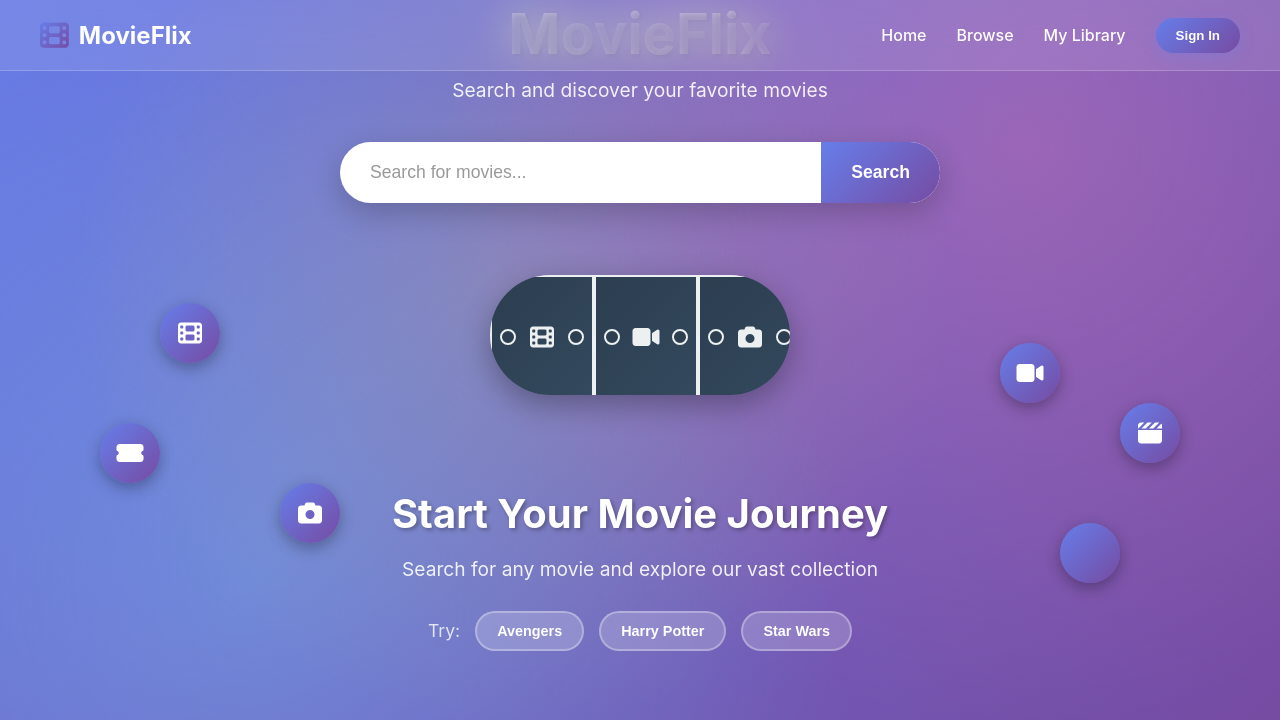
Test: Home Page › example search chips › populates the input when Harry Potter chip is clicked
This screenshot has width=1280, height=720.
(page scrolled)
Click the button "Harry Potter". click: {"x": 663, "y": 631}
box: [599,611,726,651]
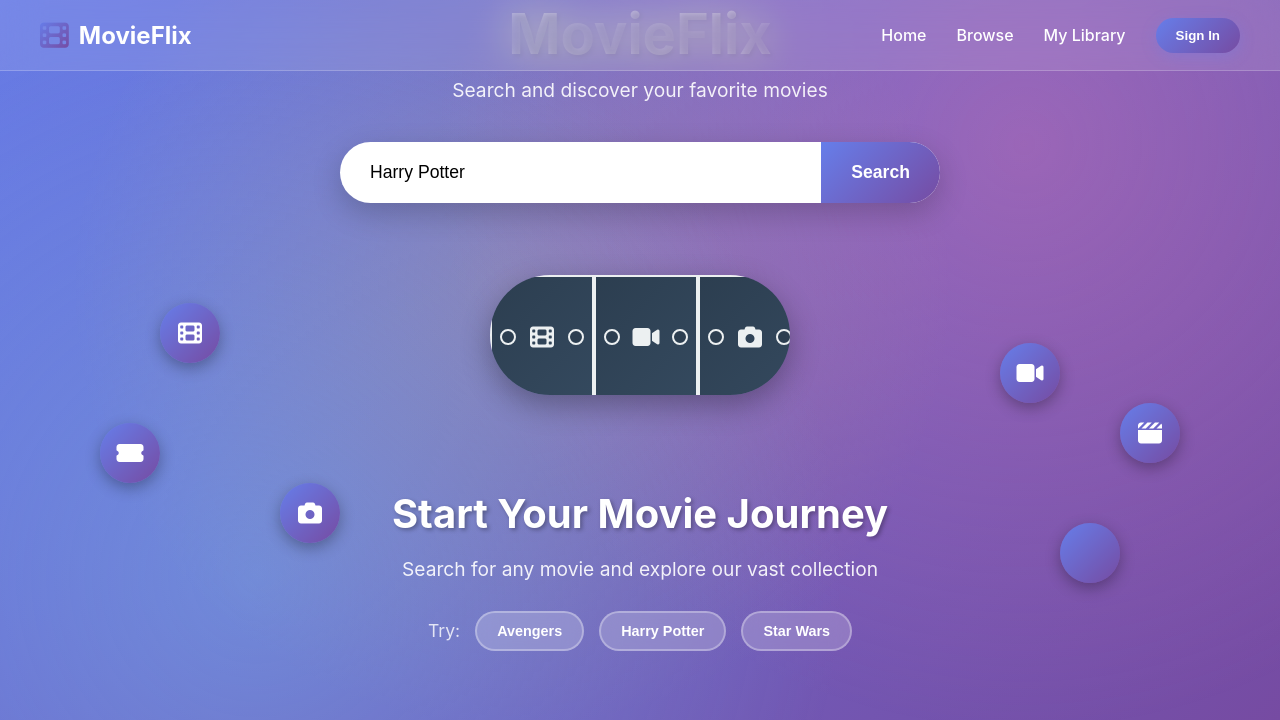
Now the field with placeholder "Search for movies..." holds "Harry Potter", box [340,142,821,203]
